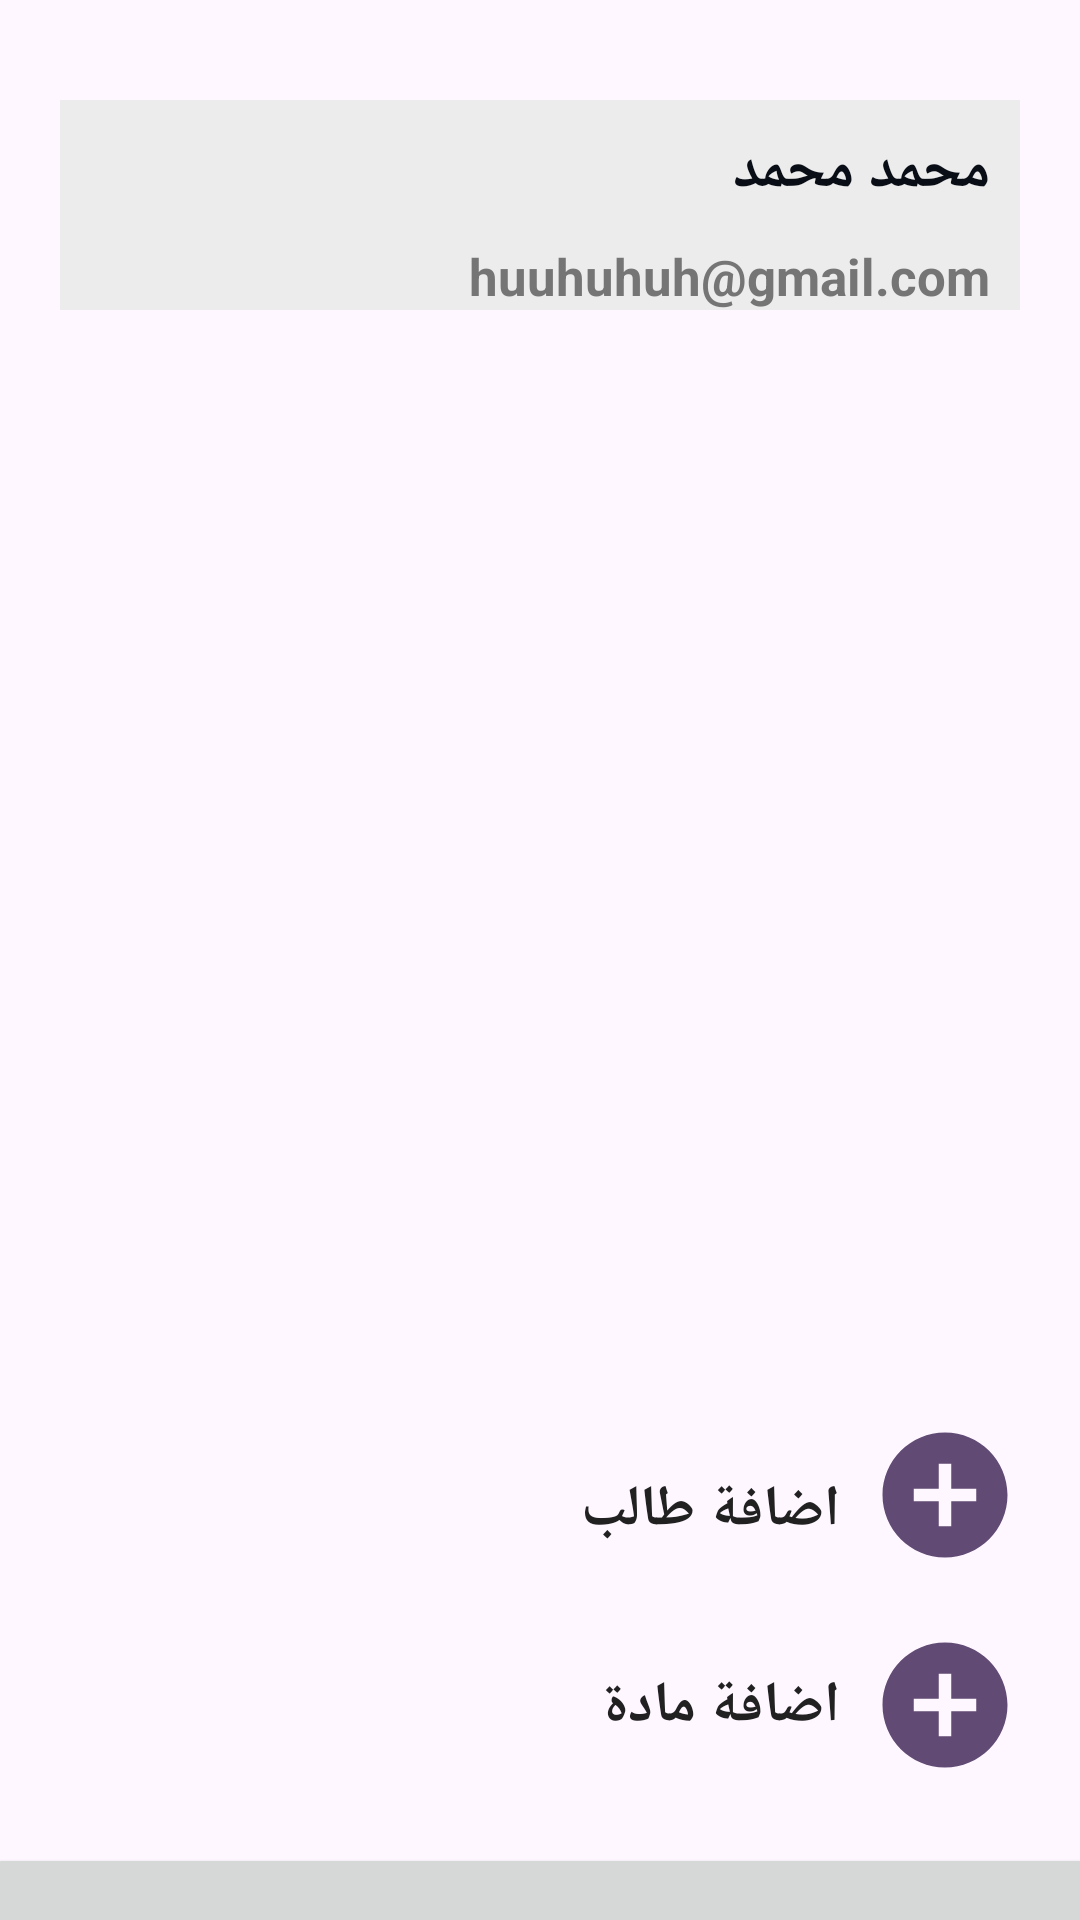

Icons on this 1080 x 1920 Android screen, each with its box as (x1, y1, x2, y2):
add circle: (882, 1432, 1008, 1558), (882, 1642, 1008, 1768)
